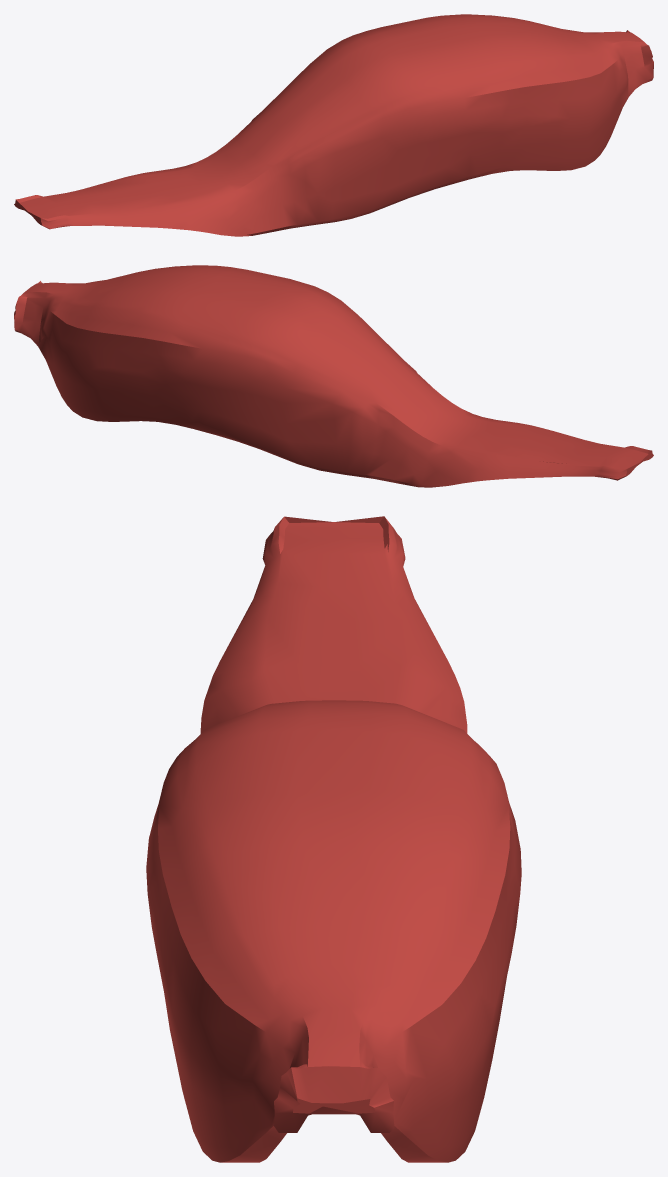
The model's file is adventure_1_lod2.glb.
3 views of the same model, one above another, from view 1: azimuth 30°, elevation 25°; view 2: azimuth 150°, elevation 25°; view 3: azimuth 270°, elevation 25° (orthographic). The views are drawn at different scales.
Parts seen in each view (by area): view 1: adventure_1_lod2; view 2: adventure_1_lod2; view 3: adventure_1_lod2.
Part boxes in pixels (x1,y1,x2,y2): adventure_1_lod2: (14,14,653,236); adventure_1_lod2: (14,265,653,487); adventure_1_lod2: (146,516,521,1162).
Size of the model in its own units: 1.7 by 0.3551 by 0.4482.
